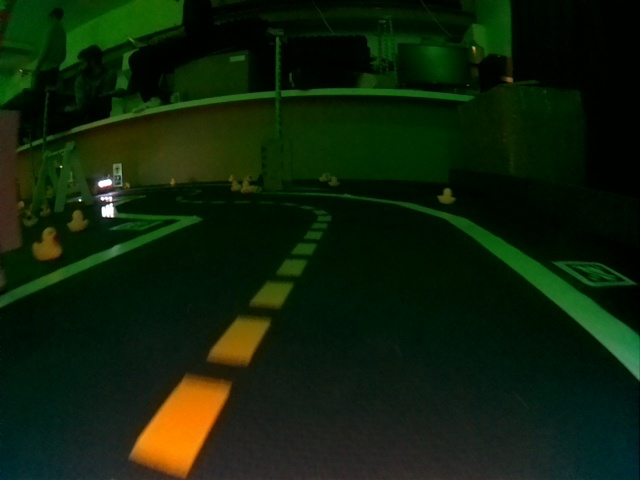Duckie: (32, 228, 62, 261), (67, 213, 88, 232), (438, 188, 455, 205), (22, 214, 36, 227), (231, 180, 241, 190), (40, 206, 50, 216), (330, 176, 339, 186), (319, 173, 328, 183), (169, 177, 178, 187), (242, 181, 252, 189)
Duckiebot: (88, 179, 112, 194)
Intersection sign: (113, 164, 122, 173)
QR code: (553, 260, 635, 286), (109, 220, 161, 230), (113, 175, 122, 184)
